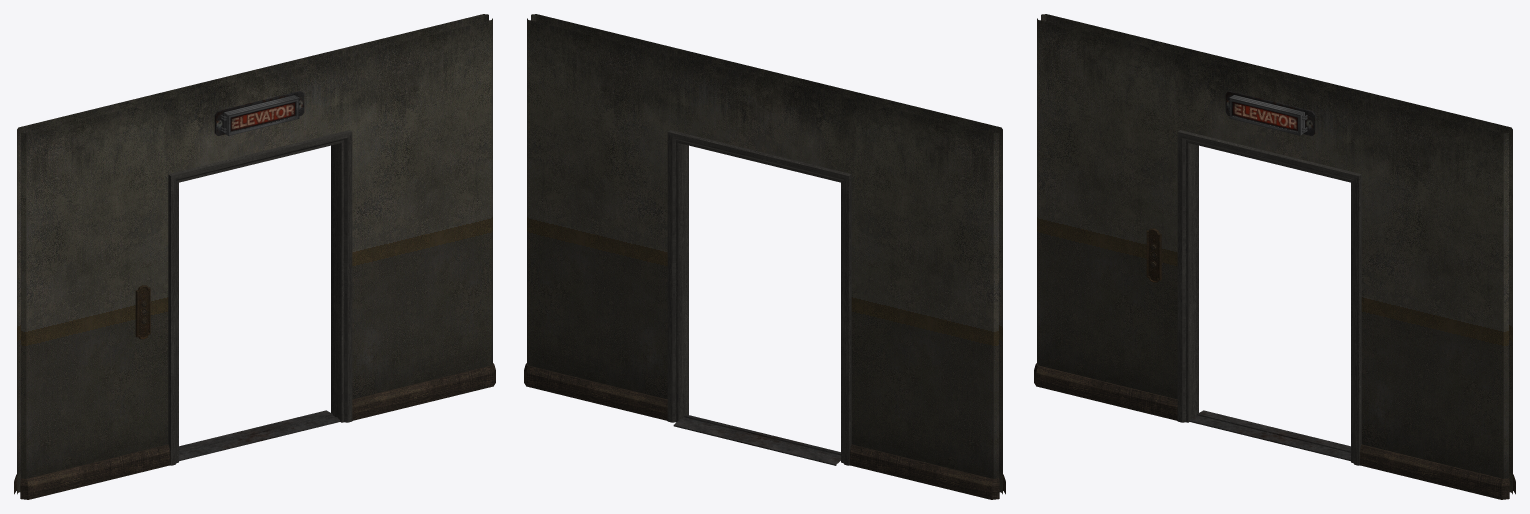
The model's file is elevator_doorway_1.glb.
3 renders of one model, left to right at view 1: azimuth 30°, elevation 25°; view 2: azimuth 150°, elevation 25°; view 3: azimuth 330°, elevation 25°, orthographic.
Visible parts, largest first — view 1: elevator_doorway_1; view 2: elevator_doorway_1; view 3: elevator_doorway_1.
Part boxes in pixels (x1,y1,x2,y2): elevator_doorway_1: (14, 14, 495, 499); elevator_doorway_1: (524, 14, 1005, 499); elevator_doorway_1: (1034, 14, 1515, 499).
Bounding box in the file's own units: 4.09 × 3 × 0.29.
Materials: 6 (6 with a texture image).
